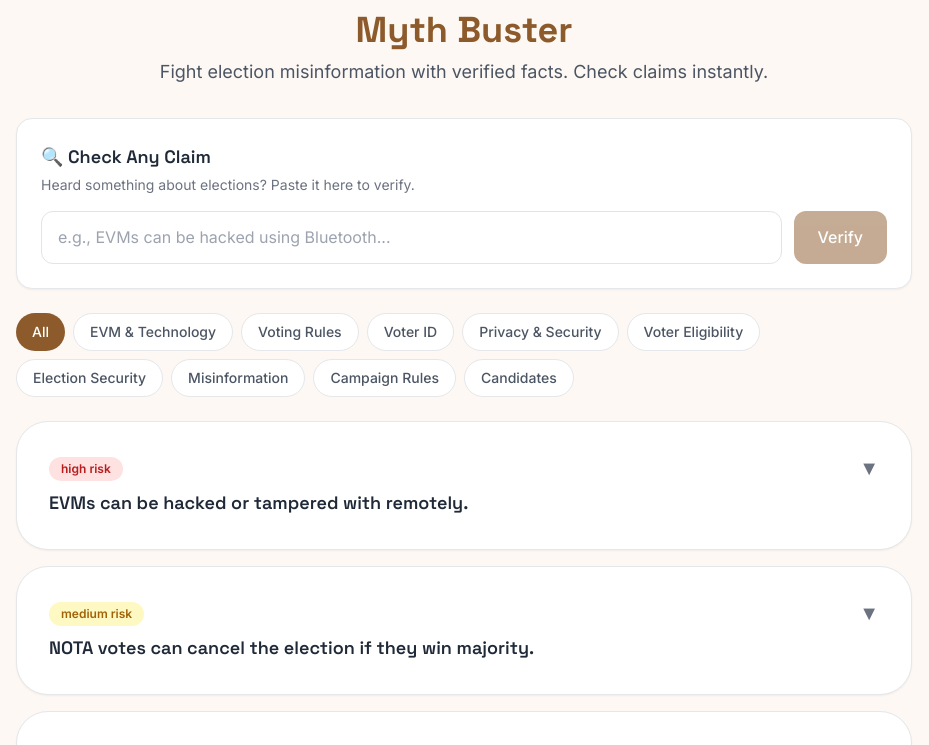
it: MythBuster Component › expands myth card on button click
Click the button "high risk EVMs can be hacked or tampered with remotely. ▼" at (86, 469), box left=49, top=454, right=879, bottom=517
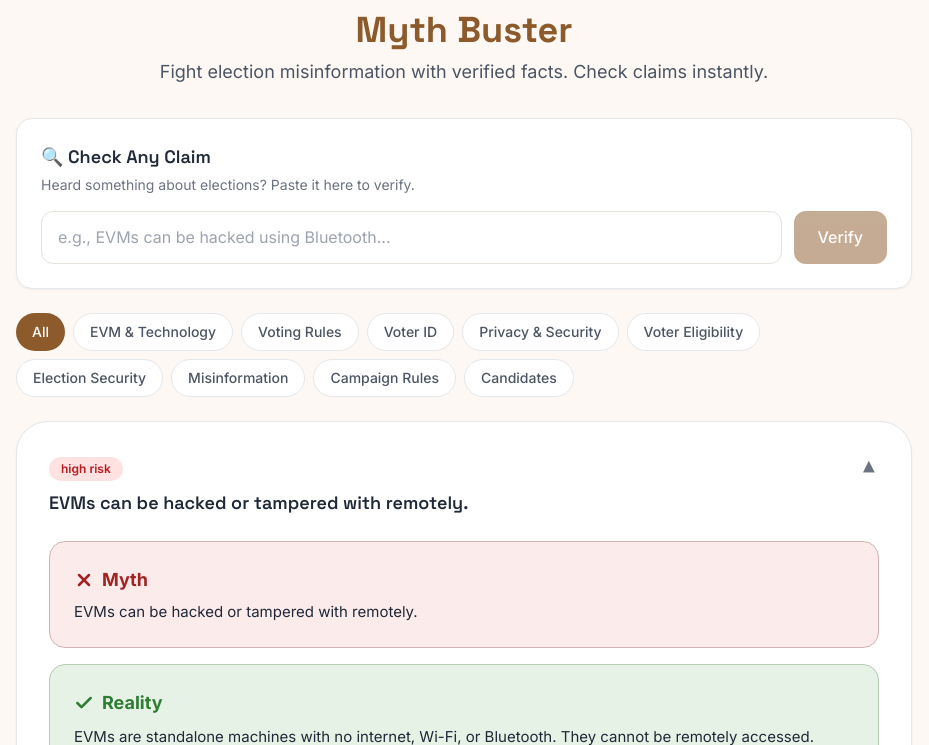
Expected: the text "Reality" is shown, left=102, top=689, right=162, bottom=717
